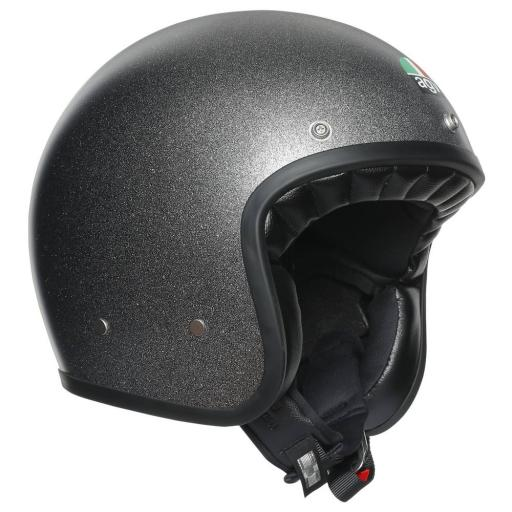helmet-detection: (0, 4, 499, 512)
